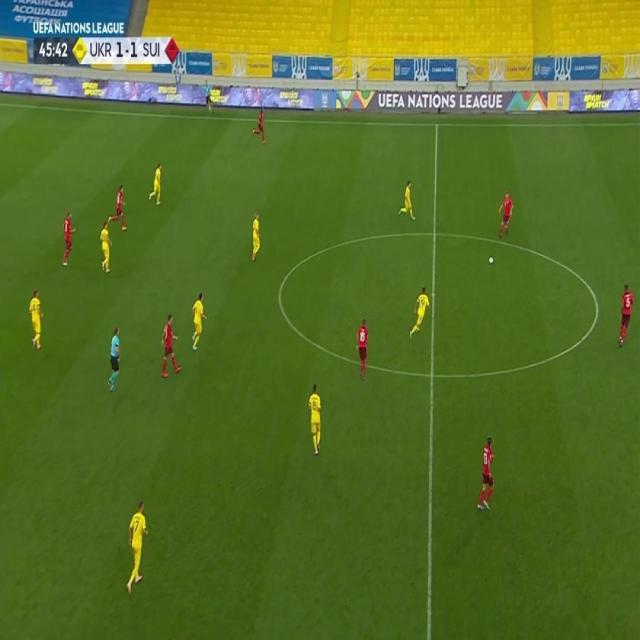ball: (488, 254, 494, 264)
player: (125, 497, 150, 593), (477, 434, 497, 512), (160, 313, 181, 379), (409, 285, 432, 340), (616, 282, 635, 347), (307, 382, 323, 456), (190, 292, 209, 351), (28, 288, 45, 350), (355, 317, 371, 381), (108, 184, 128, 233), (496, 190, 515, 240), (61, 210, 77, 268), (398, 180, 417, 221), (99, 220, 113, 273), (148, 162, 164, 206), (249, 211, 262, 263), (253, 105, 266, 144)
referee: (107, 324, 122, 392), (204, 80, 214, 114)
